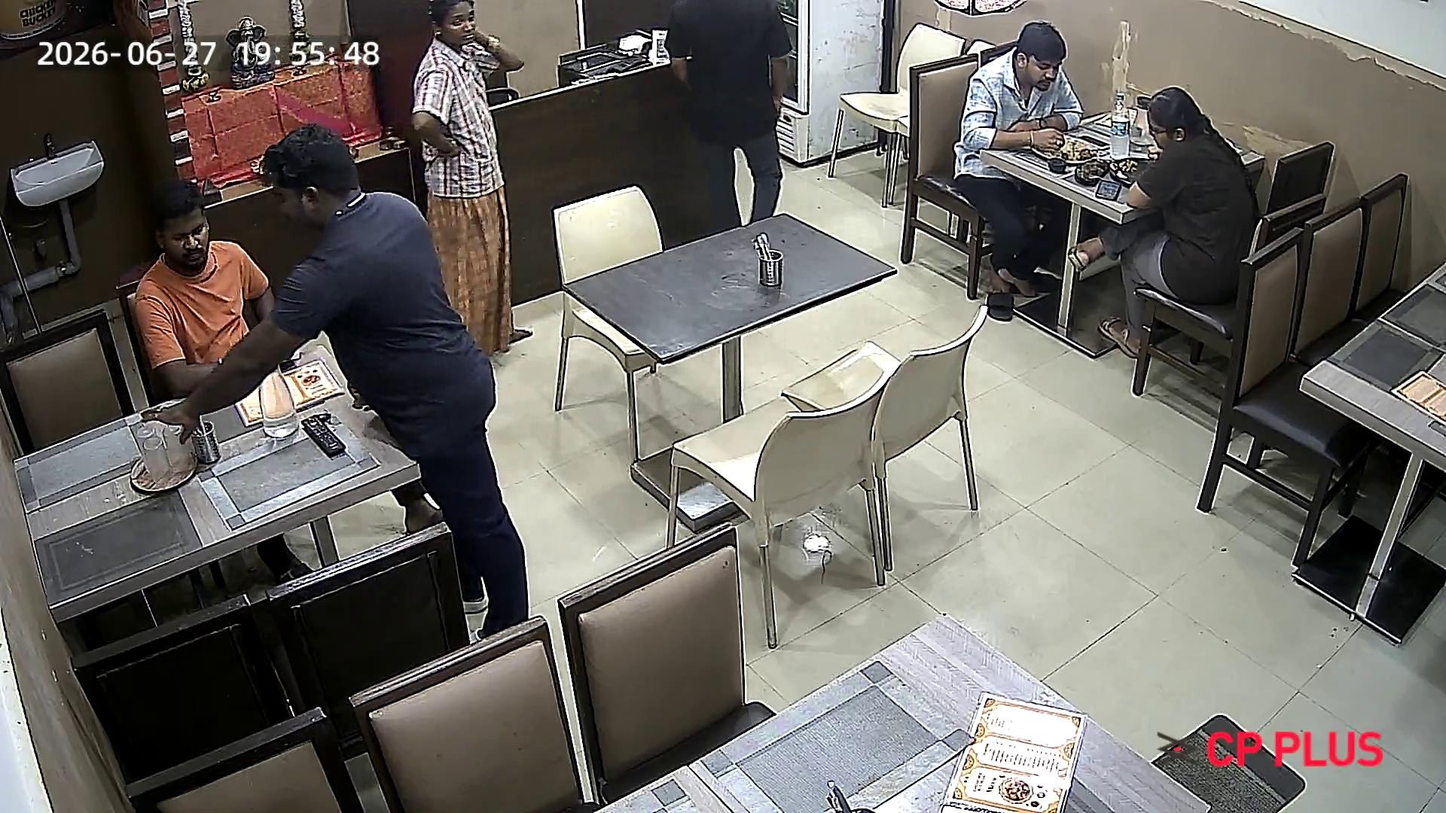clean: (556, 205, 903, 364)
occupied: (4, 176, 424, 609), (910, 31, 1289, 248)
